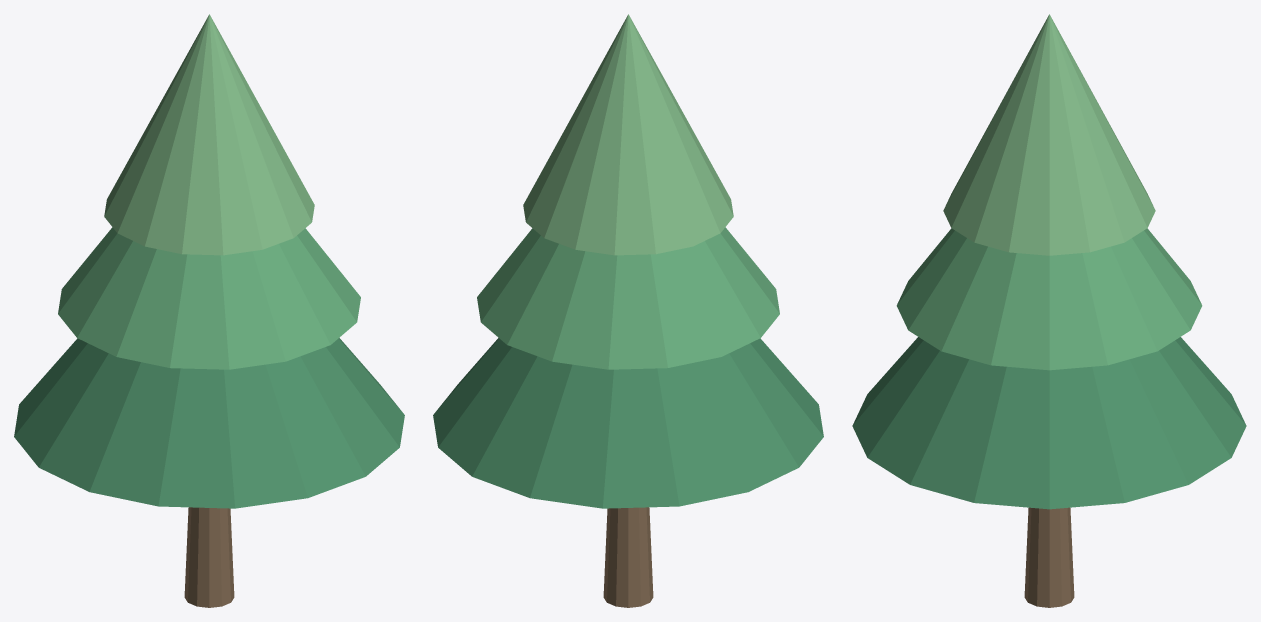
File: tree.glb
3 views of the same model, side by side, from view 1: azimuth 30°, elevation 25°; view 2: azimuth 150°, elevation 25°; view 3: azimuth 270°, elevation 25° (orthographic).
Visible parts, largest first — view 1: 景观树; view 2: 景观树; view 3: 景观树.
Part boxes in pixels (left/top/right/bottom): 景观树: left=14, top=14, right=404, bottom=607; 景观树: left=433, top=14, right=823, bottom=607; 景观树: left=852, top=14, right=1246, bottom=607.
Size of the model in its own units: 4.9 by 8 by 4.9.
